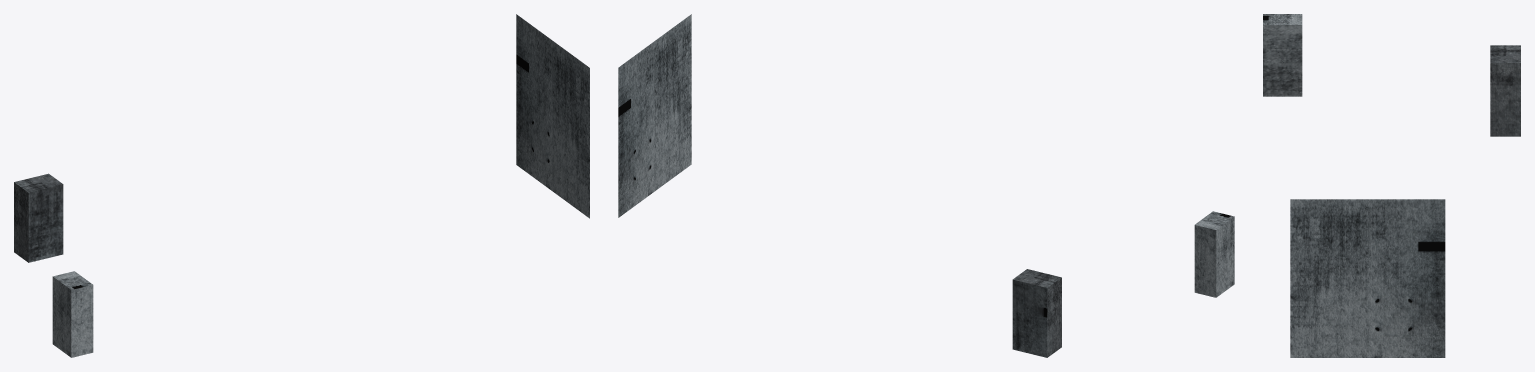
File: store_99.obj
The picture shows the model from 3 angles, left to right: view 1: azimuth 30°, elevation 25°; view 2: azimuth 150°, elevation 25°; view 3: azimuth 270°, elevation 25°; orthographic projection. The views are drawn at different scales.
Bounding box in the file's own units: 593 × 161 × 237.
